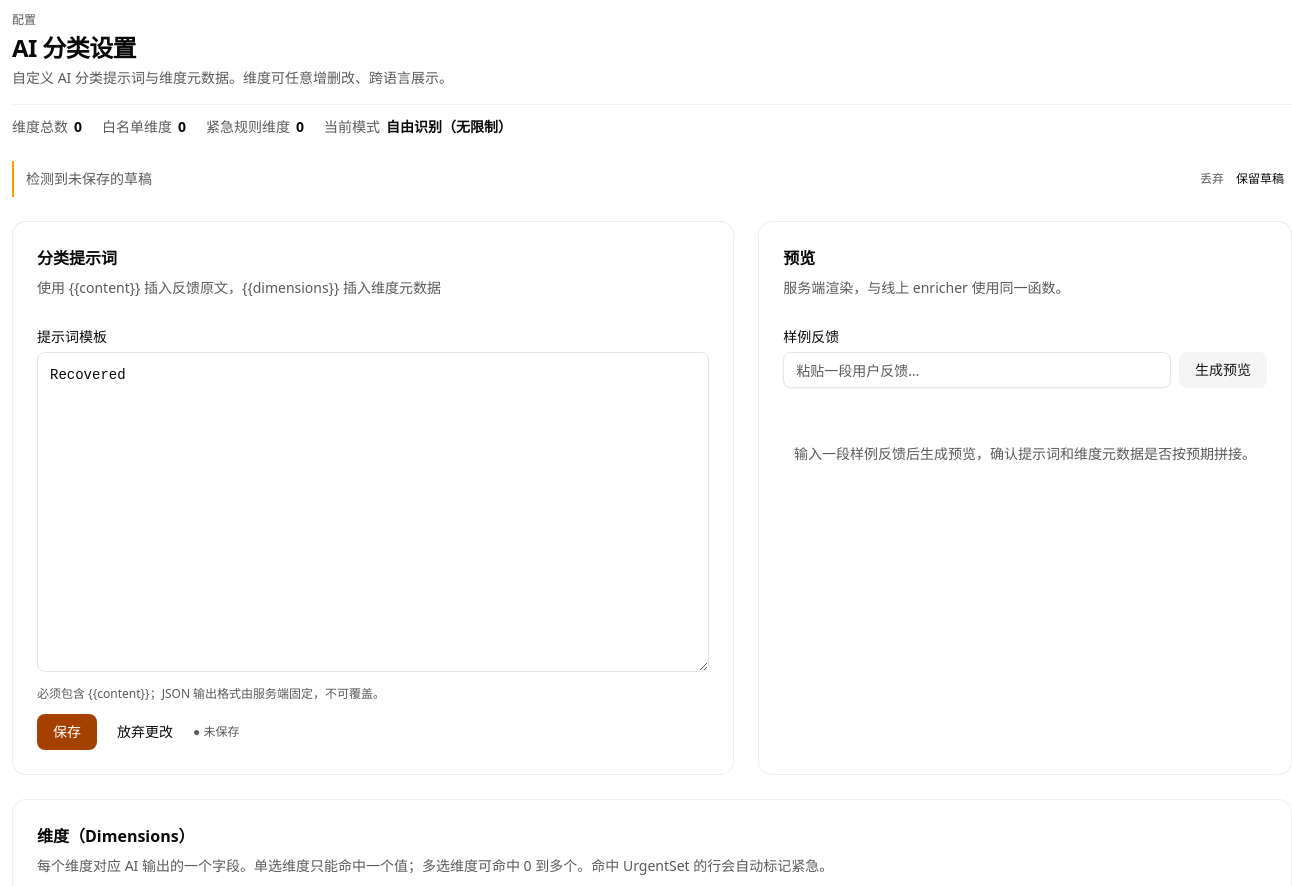
Test: ClassificationSettingsPage › draft durability (#172) › recovery banner dismiss resets form to server state
The image size is (1292, 886).
Expected: the text "检测到未保存的草稿" is shown, top-left (26, 169), bottom-right (152, 188)
Click the button "丢弃" at point(1212, 179), box top-left (1200, 171), bottom-right (1224, 187)
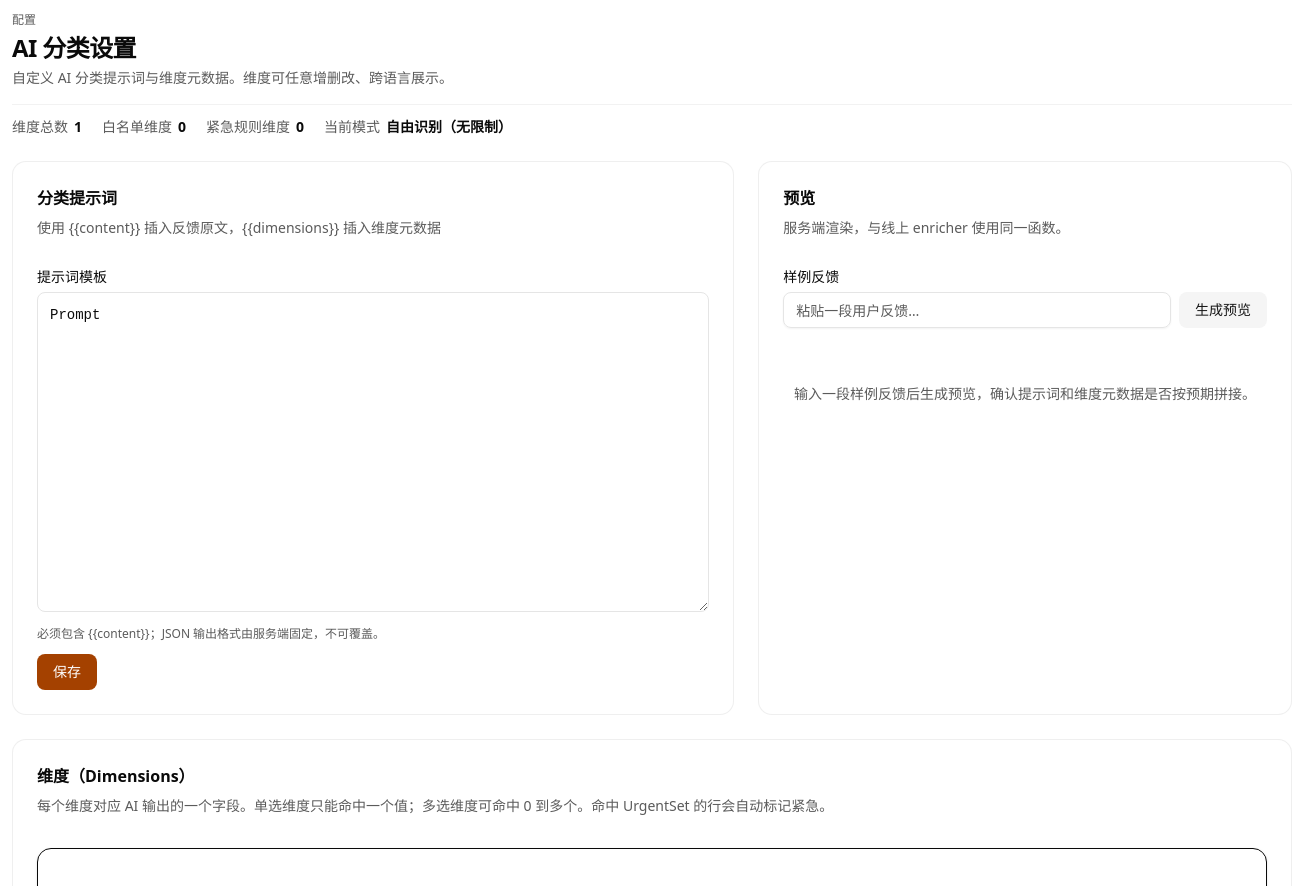
Result: the text "检测到未保存的草稿" is gone
Result: the text box labelled "提示词模板" holds "Prompt" at top-left (37, 292), bottom-right (709, 612)
